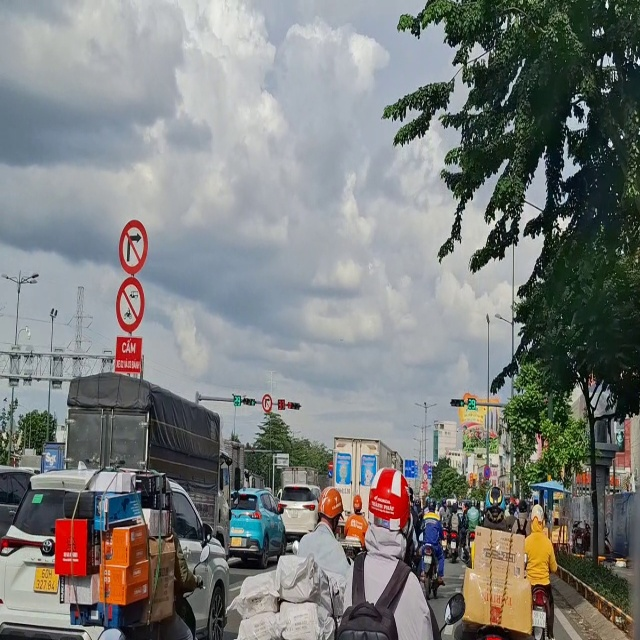cam queo phai: (106, 209, 160, 276), (256, 387, 275, 417)
